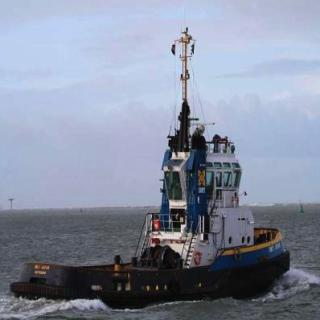Tug Boat: (26, 16, 284, 301)
